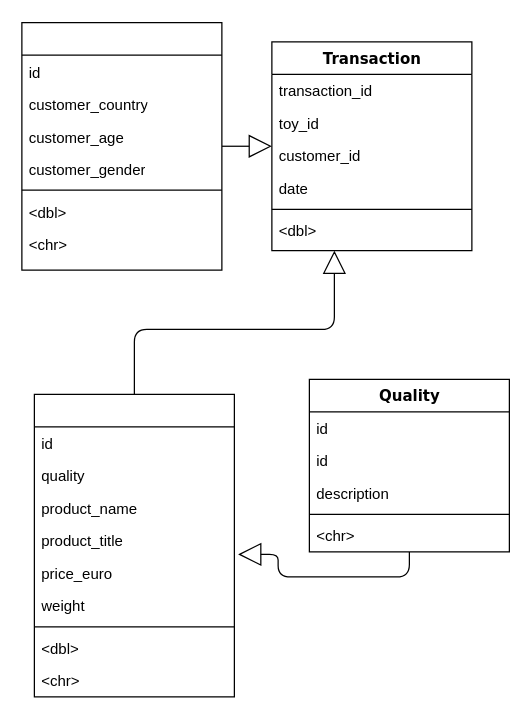
This 531x721 diagram has some shape labels left out. The box of each missing label's shape, as (x1, y1, x2, y2) in pixels:
Customers: (21, 21, 222, 270)
Toys: (33, 393, 234, 697)
